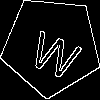W: (26, 21, 87, 82)
